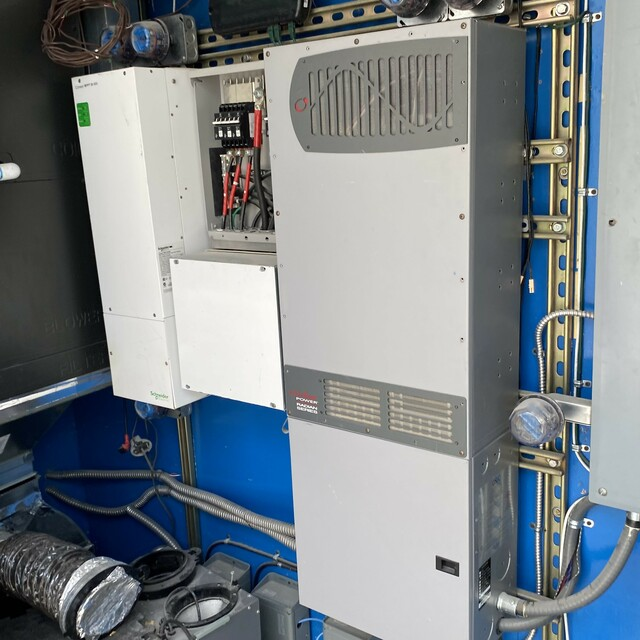inverter: (246, 18, 512, 640)
